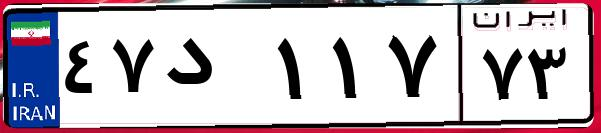1: (270, 28, 330, 110), (330, 28, 385, 110)
3: (525, 38, 570, 115)
4: (57, 26, 110, 100)
7: (385, 28, 445, 110), (475, 38, 525, 113), (110, 28, 158, 98)
د: (158, 20, 270, 120)
